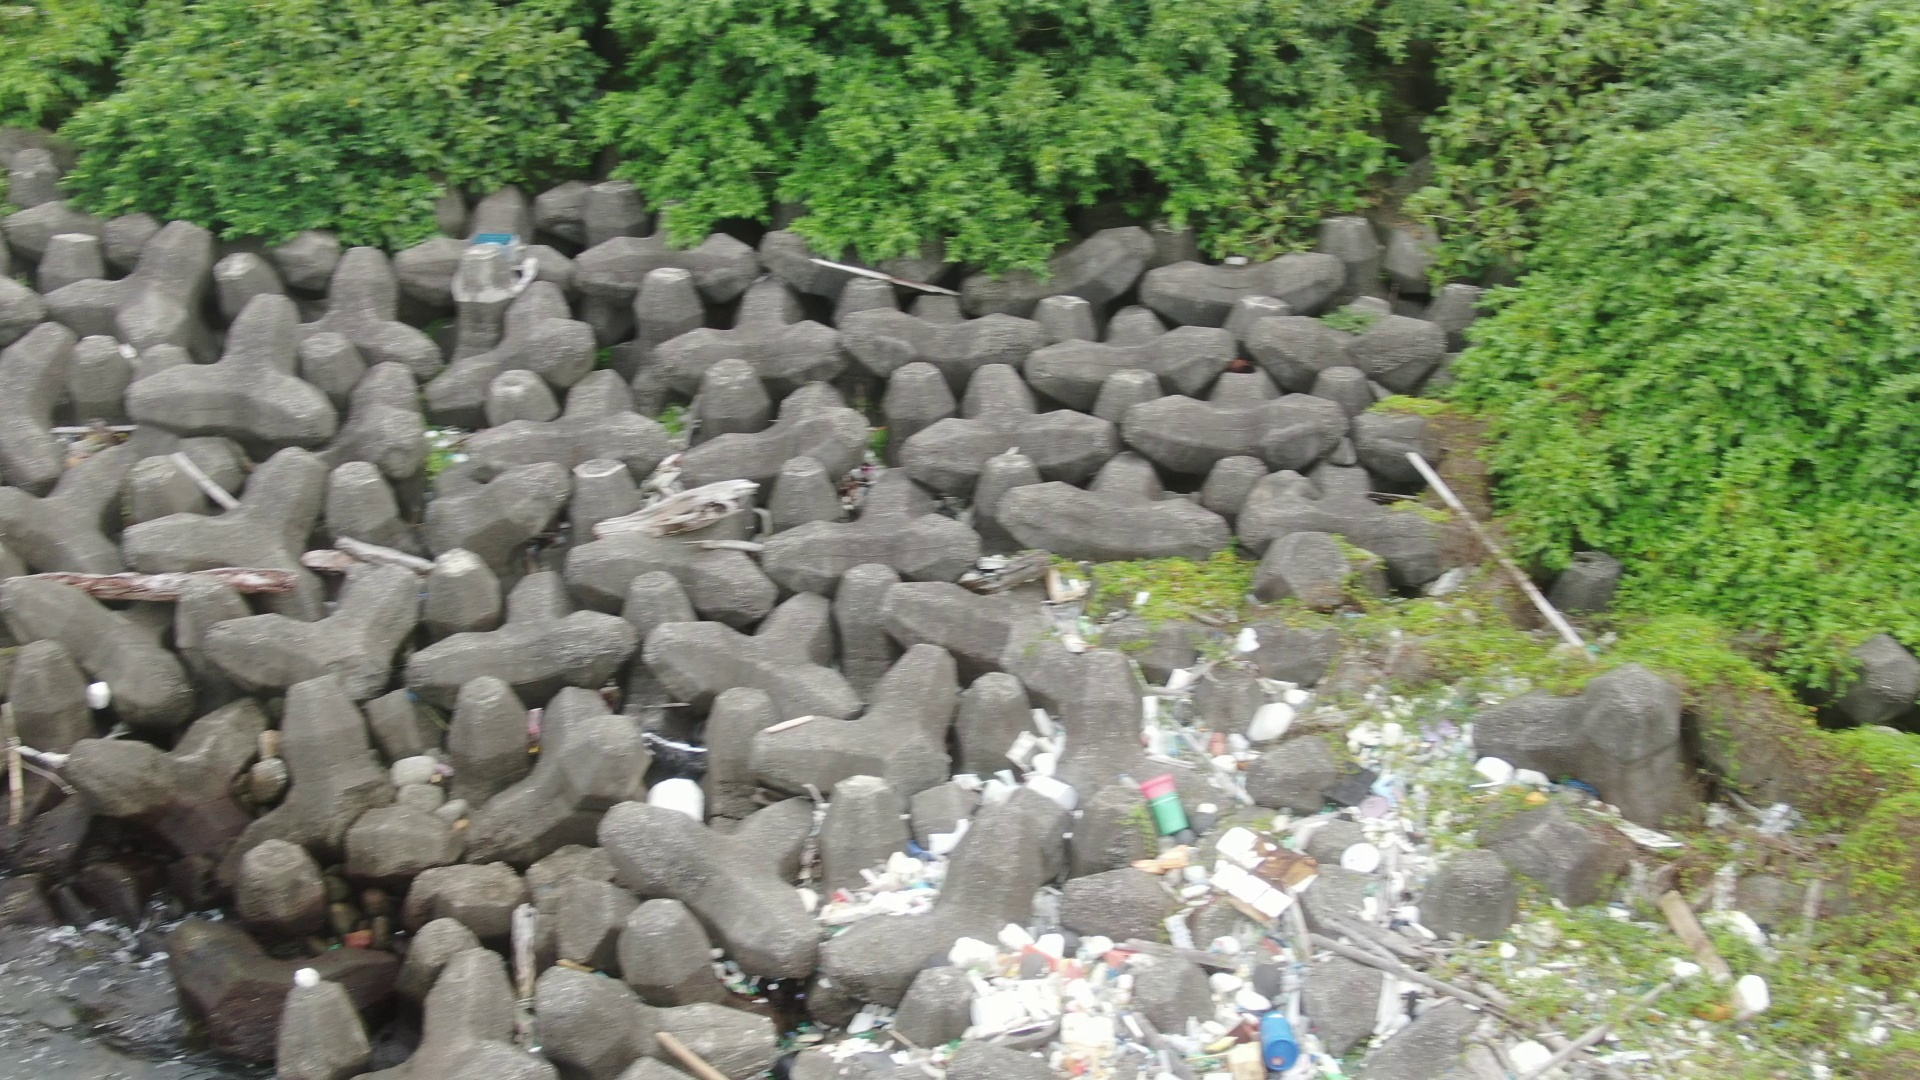garbage: (796, 626, 1600, 1077), (1618, 804, 1778, 1047), (700, 935, 771, 1002), (469, 218, 529, 266), (66, 422, 117, 467)
